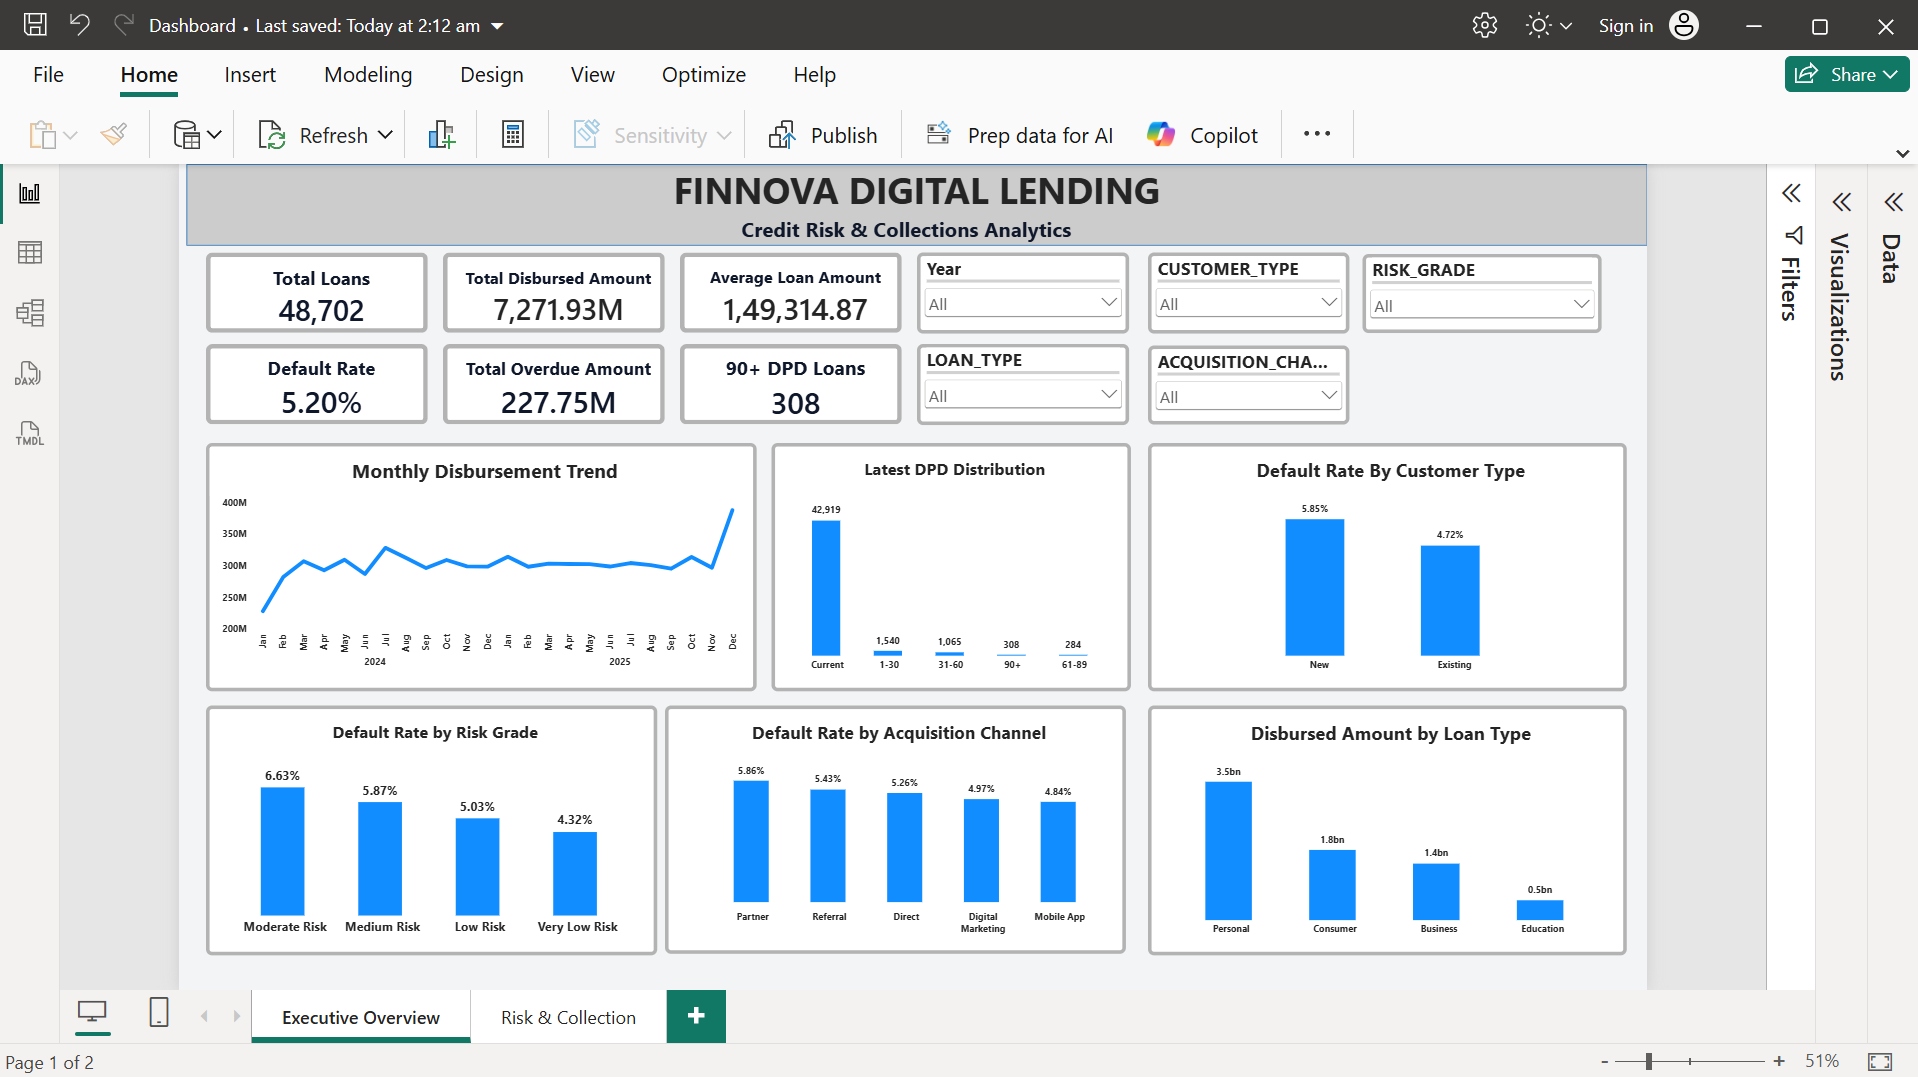

The page's visual inventory and layout, read from the dashboard file:
{"tool":"powerbi","page":{"name":"Executive Overview","canvas":[1920,1080],"ordinal":0},"visuals":[{"type":"shape","box":[9.1,0,1910.2,106.8],"z":0},{"type":"textbox","box":[9.8,0,1909.4,65.9],"z":1000},{"type":"textbox","box":[9.8,65.9,1882.6,41.5],"z":2000},{"type":"cardVisual","fields":{"Data":["Fact Loan.Total Loans"]},"box":[35,115,290,105],"z":3000},{"type":"cardVisual","fields":{"Data":["Fact Loan.Total Disbursed Amount"]},"box":[345,115,290,105],"z":4000},{"type":"cardVisual","fields":{"Data":["Fact Loan.Average Loan Amount"]},"box":[655,115,290,105],"z":5000},{"type":"cardVisual","fields":{"Data":["Fact Loan.Default Rate"]},"box":[35,235,290,105],"z":6000},{"type":"cardVisual","fields":{"Data":["Fact Loan.Total Overdue Amount"]},"box":[345,235,290,105],"z":7000},{"type":"cardVisual","fields":{"Data":["Fact Loan.90+ DPD Loans"]},"box":[655,235,290,105],"z":8000},{"type":"slicer","fields":{"Values":["Dim_Date.Year"]},"box":[964.3,115.2,277.5,105.8],"z":9000},{"type":"slicer","fields":{"Values":["Fact Loan.LOAN_TYPE"]},"box":[964.3,235.2,277.5,105.8],"z":10000},{"type":"slicer","fields":{"Values":["Fact Loan.CUSTOMER_TYPE"]},"box":[1267.7,115.2,263.4,105.8],"z":11000},{"type":"slicer","fields":{"Values":["Fact Loan.ACQUISITION_CHANNEL"]},"box":[1267.7,237.6,263.4,103.5],"z":12000},{"type":"slicer","fields":{"Values":["Fact Loan.RISK_GRADE"]},"box":[1547.6,117.6,312.8,103.5],"z":13000},{"type":"lineChart","title":"Monthly Disbursement Trend","fields":{"Category":["Dim_Date.Year","Dim_Date.Month"],"Y":["Fact Loan.Total Disbursed Amount"]},"box":[35.8,365.3,720.3,324.4],"z":14000},{"type":"clusteredColumnChart","title":"Latest DPD Distribution","fields":{"Category":["Fact Loan.VW_LOAN_RISK.LATEST_DPD_BUCKET"],"Y":["Fact Loan.Total Loans"]},"box":[774,365.3,470,324.4],"z":15000},{"type":"clusteredColumnChart","title":"Default Rate by Risk Grade","fields":{"Category":["Fact Loan.RISK_GRADE"],"Y":["Fact Loan.Default Rate"]},"box":[35.8,707.6,590.1,327],"z":16000},{"type":"clusteredColumnChart","title":"Default Rate by Acquisition Channel","fields":{"Category":["Fact Loan.ACQUISITION_CHANNEL"],"Y":["Fact Loan.Default Rate"]},"box":[636,707.6,602.8,324.4],"z":17000},{"type":"clusteredColumnChart","title":"Disbursed Amount by Loan Type","fields":{"Category":["Fact Loan.LOAN_TYPE"],"Y":["Fact Loan.Total Disbursed Amount"]},"box":[1267,707.6,625.8,327],"z":18000},{"type":"clusteredColumnChart","title":"Default Rate By Customer Type","fields":{"Category":["Fact Loan.CUSTOMER_TYPE"],"Y":["Fact Loan.Default Rate"]},"box":[1267,365.3,625.8,324.4],"z":19000}]}

Visuals, with their boxes on the page's 1920x1080 design canvas (x1, y1, x2, y2). These are canvas units, not pixel positions in the 1918x1077 screenshot, which may show the page scaled, cropped or inside an application window:
shape: <box>9,0,1919,107</box>
textbox: <box>10,0,1919,66</box>
textbox: <box>10,66,1892,107</box>
cardVisual - Fact Loan.Total Loans: <box>35,115,325,220</box>
cardVisual - Fact Loan.Total Disbursed Amount: <box>345,115,635,220</box>
cardVisual - Fact Loan.Average Loan Amount: <box>655,115,945,220</box>
cardVisual - Fact Loan.Default Rate: <box>35,235,325,340</box>
cardVisual - Fact Loan.Total Overdue Amount: <box>345,235,635,340</box>
cardVisual - Fact Loan.90+ DPD Loans: <box>655,235,945,340</box>
slicer - Dim_Date.Year: <box>964,115,1242,221</box>
slicer - Fact Loan.LOAN_TYPE: <box>964,235,1242,341</box>
slicer - Fact Loan.CUSTOMER_TYPE: <box>1268,115,1531,221</box>
slicer - Fact Loan.ACQUISITION_CHANNEL: <box>1268,238,1531,341</box>
slicer - Fact Loan.RISK_GRADE: <box>1548,118,1860,221</box>
"Monthly Disbursement Trend" lineChart: <box>36,365,756,690</box>
"Latest DPD Distribution" clusteredColumnChart: <box>774,365,1244,690</box>
"Default Rate by Risk Grade" clusteredColumnChart: <box>36,708,626,1035</box>
"Default Rate by Acquisition Channel" clusteredColumnChart: <box>636,708,1239,1032</box>
"Disbursed Amount by Loan Type" clusteredColumnChart: <box>1267,708,1893,1035</box>
"Default Rate By Customer Type" clusteredColumnChart: <box>1267,365,1893,690</box>
